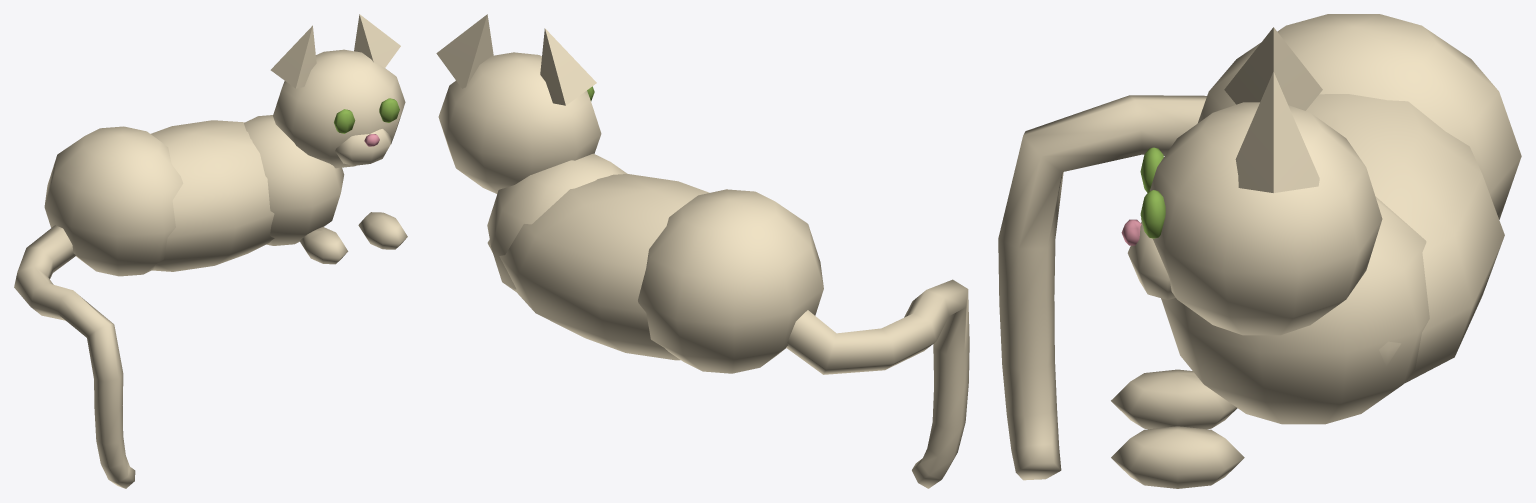
The model's file is cat_lying.glb.
3 renders of one model, left to right at view 1: azimuth 30°, elevation 25°; view 2: azimuth 150°, elevation 25°; view 3: azimuth 270°, elevation 25°, orthographic. The views are drawn at different scales.
Parts seen in each view (by area): view 1: cat_lying; view 2: cat_lying; view 3: cat_lying.
Part boxes in pixels (x1=…): cat_lying: x1=14, y1=14, x2=407, y2=488; cat_lying: x1=436, y1=14, x2=969, y2=488; cat_lying: x1=998, y1=14, x2=1521, y2=488.
Size of the model in its own units: 0.5213 by 0.4561 by 0.312.
